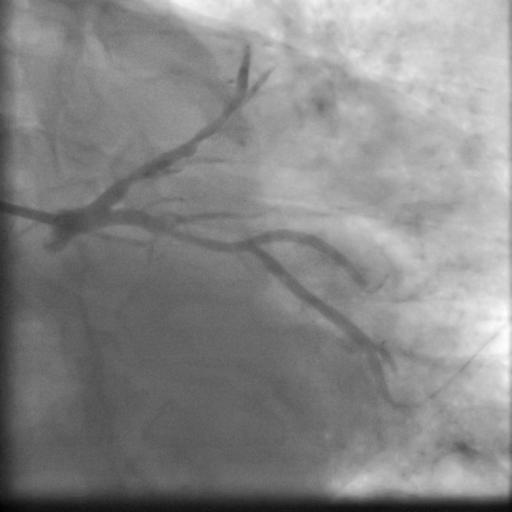Stenosis: (115, 163, 156, 187)
